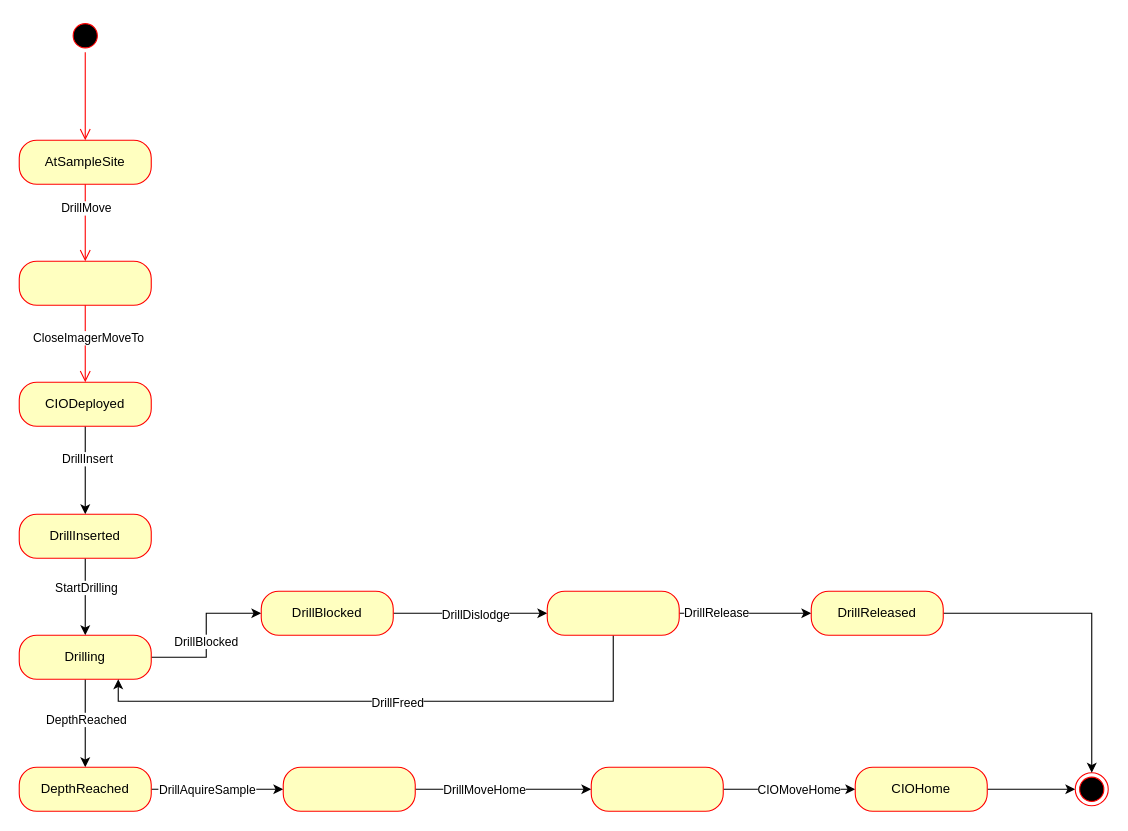
The diagram is 1128 pixels wide and 831 high, and some of its shapes have lost their labels. Each missing label, with the box of its shape:
DrillHome: (590, 766, 723, 811)
DrillMoved: (18, 260, 151, 305)
DrillTriedToDislodge: (546, 590, 679, 635)
SampleAquired: (282, 766, 415, 811)
